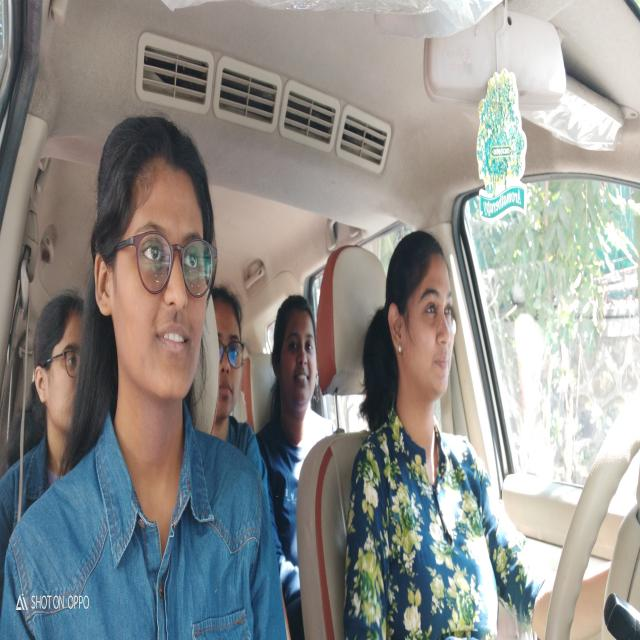person: (92, 108, 216, 438), (382, 230, 461, 423), (30, 287, 90, 454), (272, 287, 322, 429), (212, 281, 248, 428)
